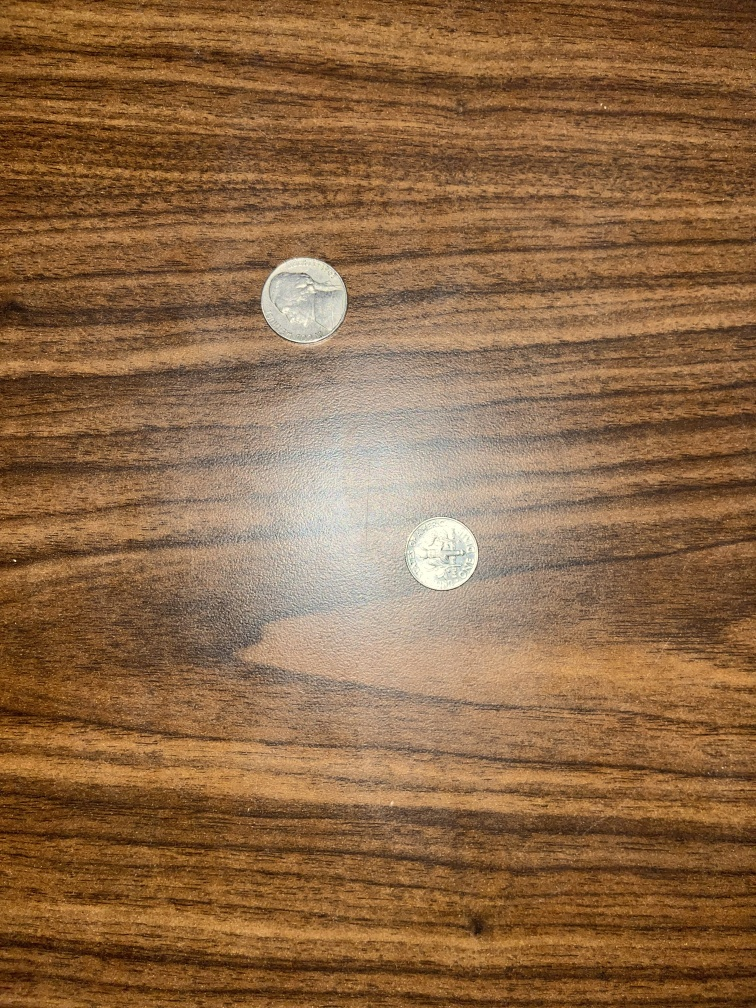dime: (404, 514, 481, 593)
quarter: (258, 254, 352, 346)
